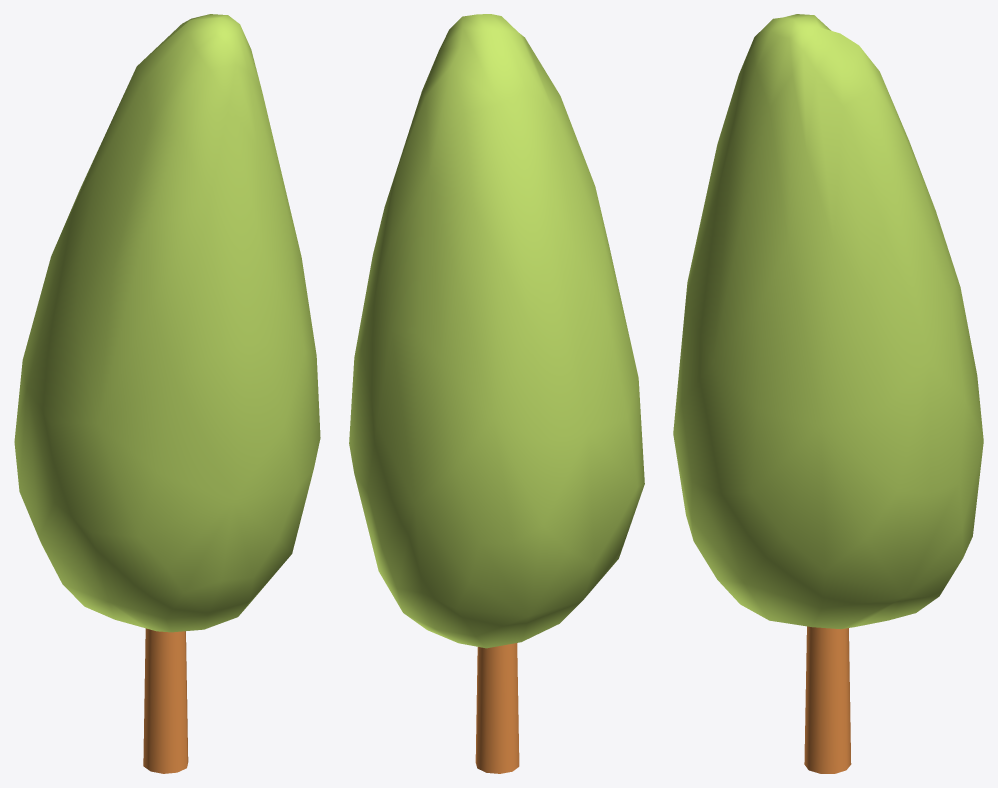
File: BushTree_J.fbx
The picture shows the model from 3 angles, left to right: view 1: azimuth 30°, elevation 25°; view 2: azimuth 150°, elevation 25°; view 3: azimuth 270°, elevation 25°; orthographic projection. The views are drawn at different scales.
Parts seen in each view (by area): view 1: Thuja_Tree_s_03; view 2: Thuja_Tree_s_03; view 3: Thuja_Tree_s_03.
Part boxes in pixels (box(x1,y1,x2,y2)): Thuja_Tree_s_03: box(14, 14, 320, 773); Thuja_Tree_s_03: box(349, 14, 644, 773); Thuja_Tree_s_03: box(673, 14, 983, 773).
Bounding box in the file's own units: 90.15 × 250 × 92.4.
